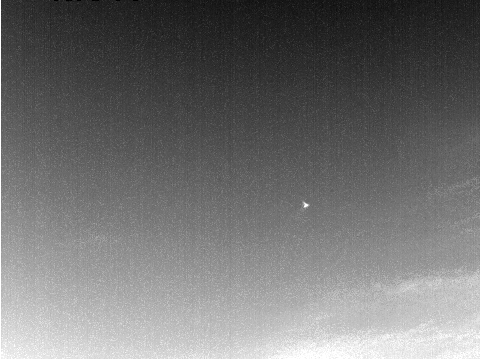dim target: (302, 201, 310, 209)
